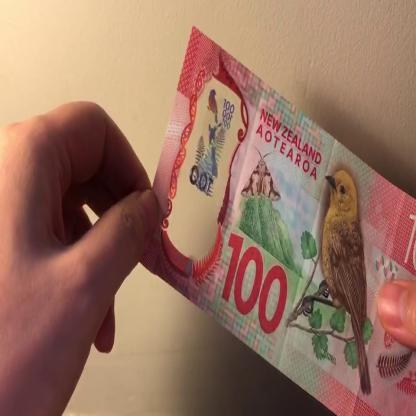100B: (189, 79, 237, 205)
